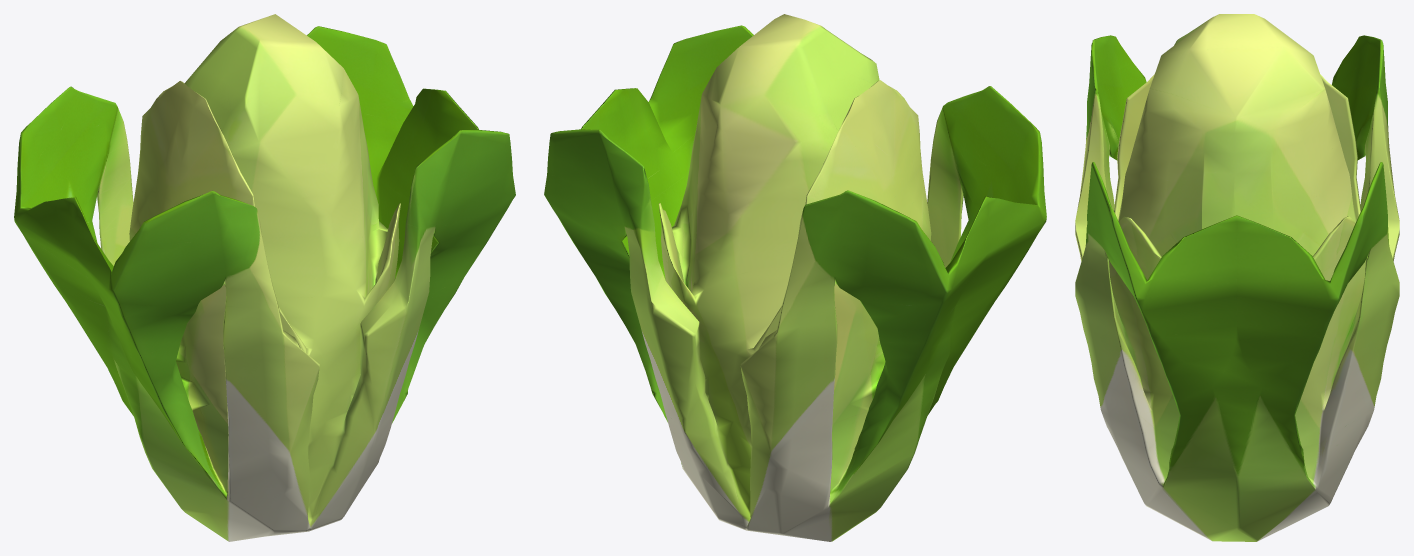
File: Meshy_AI_Verdant_Prism_Cactus_0620164419_texture.fbx
3 views of the same model, side by side, from view 1: azimuth 30°, elevation 25°; view 2: azimuth 150°, elevation 25°; view 3: azimuth 270°, elevation 25° (orthographic).
Visible parts, largest first — view 1: Mesh_0; view 2: Mesh_0; view 3: Mesh_0.
Boxes of the visible parts, left/top/right/bottom form: Mesh_0: left=14, top=14, right=515, bottom=541; Mesh_0: left=544, top=14, right=1046, bottom=541; Mesh_0: left=1075, top=14, right=1399, bottom=541.
Size of the model in its own units: 83.33 by 100 by 57.41.
1 material, 1 textured.
